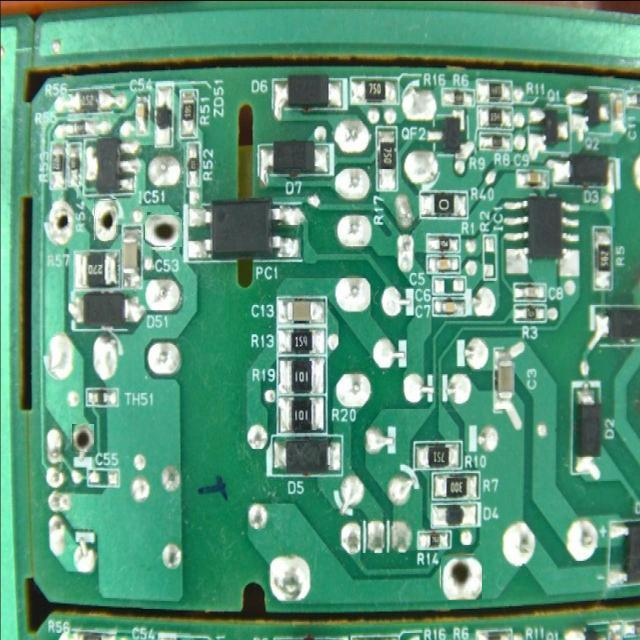damged: (440, 554, 482, 600), (146, 214, 180, 248), (50, 198, 74, 242), (95, 199, 116, 240), (72, 424, 94, 452)
